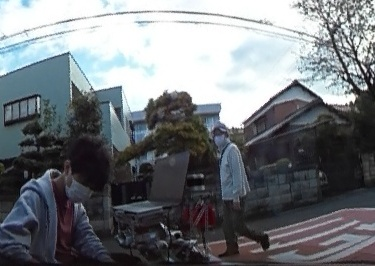person: (9, 136, 122, 266), (207, 121, 266, 253)
